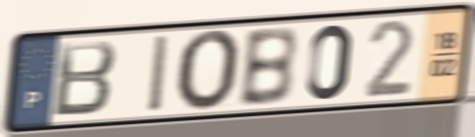0: (304, 22, 354, 104)
2: (360, 17, 416, 102)
B: (50, 37, 119, 120), (235, 24, 300, 110)
I: (147, 32, 172, 116)
O: (175, 27, 244, 115)
